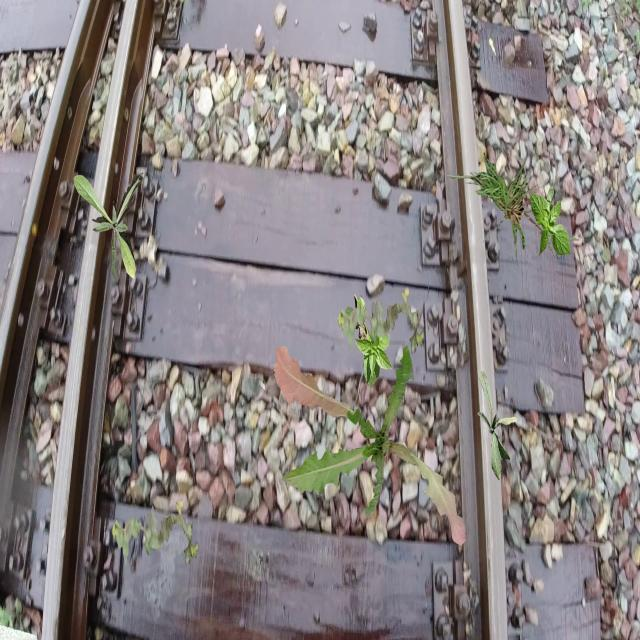Plant: (274, 344, 466, 546), (436, 152, 580, 272), (73, 173, 144, 281), (337, 287, 424, 356), (112, 498, 198, 566), (346, 293, 394, 388), (478, 371, 518, 481), (530, 187, 572, 258)
